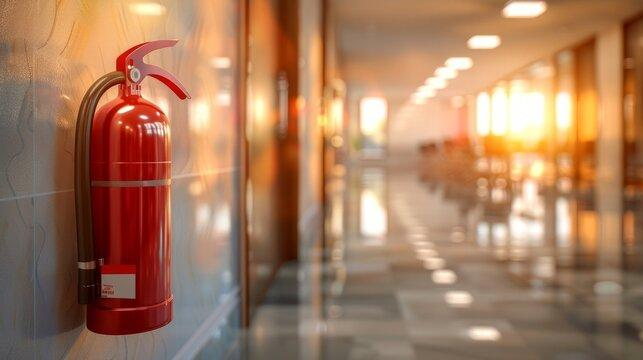wall-mounted: (56, 36, 201, 340)
